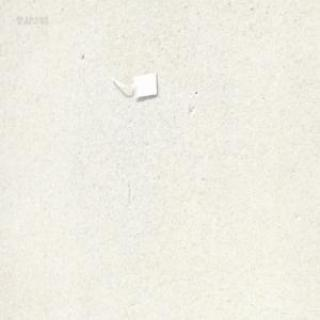LuggageTagtrack_idkeyframe: (107, 67, 159, 100)
